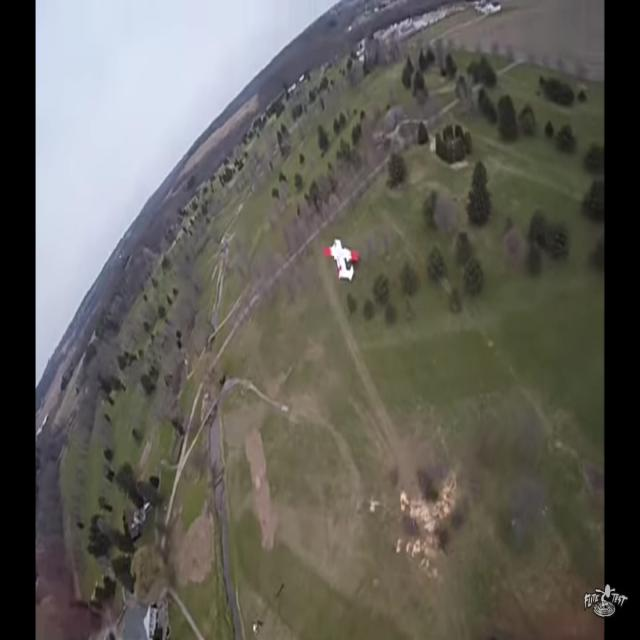iha: (321, 237, 360, 282)
